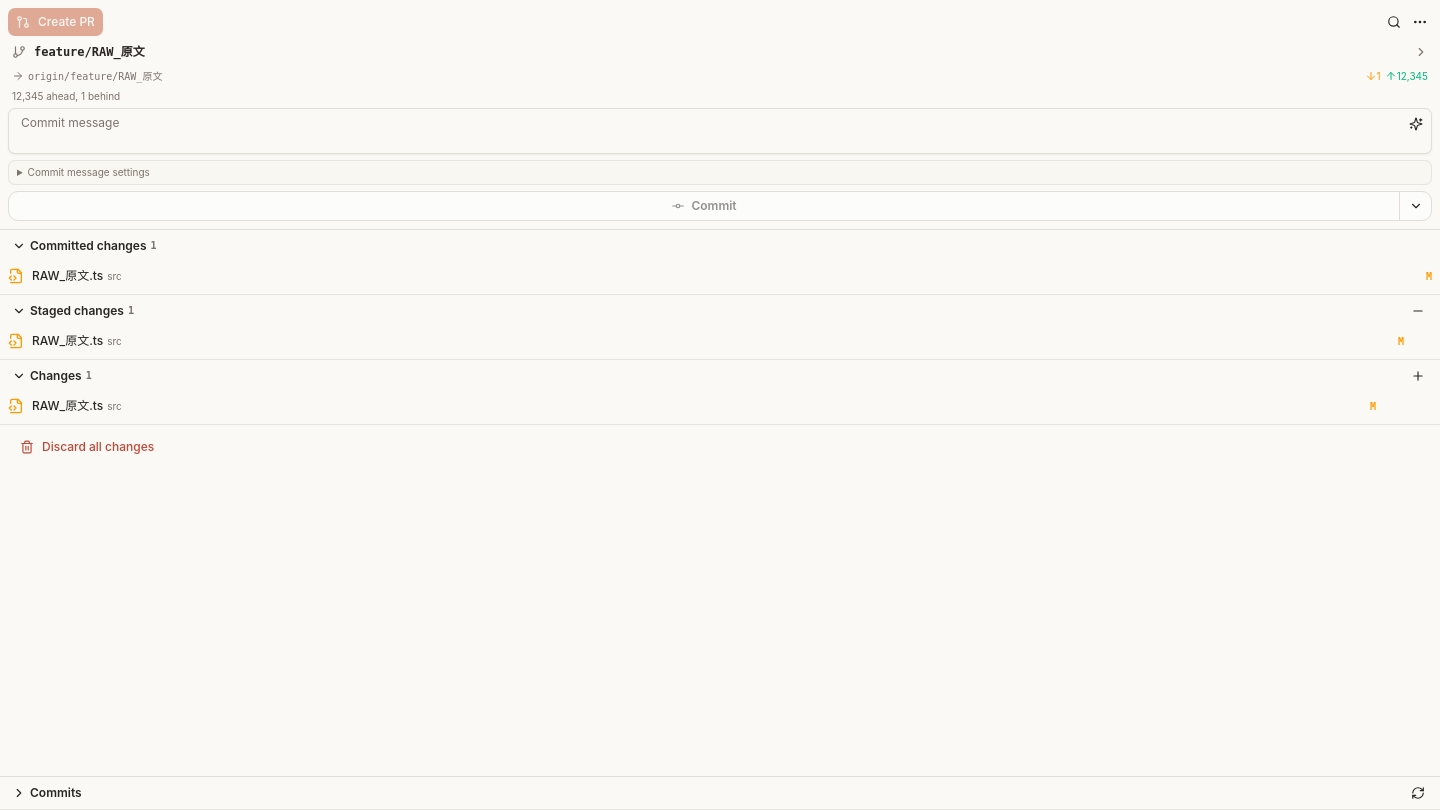
Test case: WorkspaceGitTab i18n › sends the selected provider and model to the generator
Click the heading "Commit message settings": (89, 172) [28, 166, 150, 178]
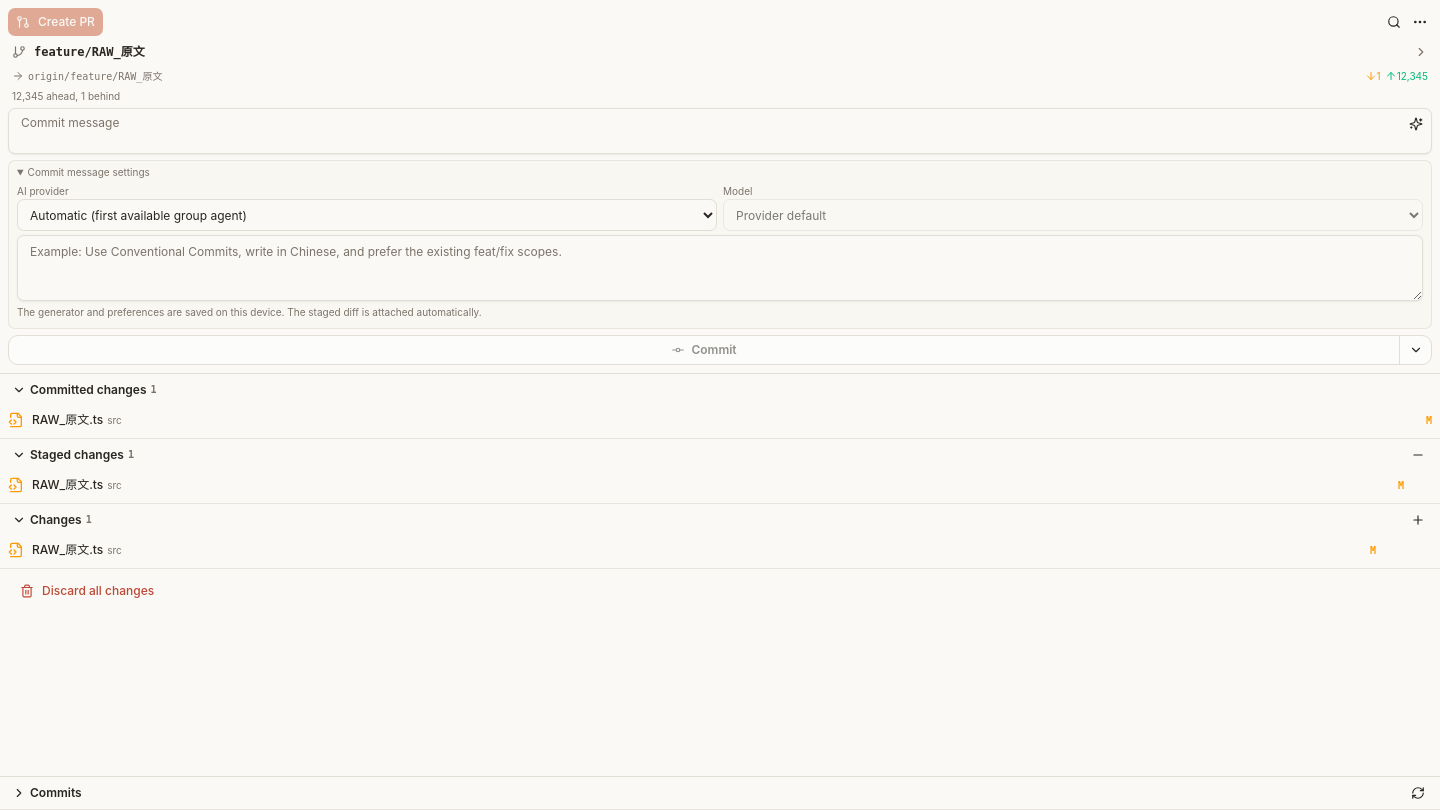
Select "Selected AI" in the dropdown labelled "AI provider": (367, 215) [17, 199, 717, 231]
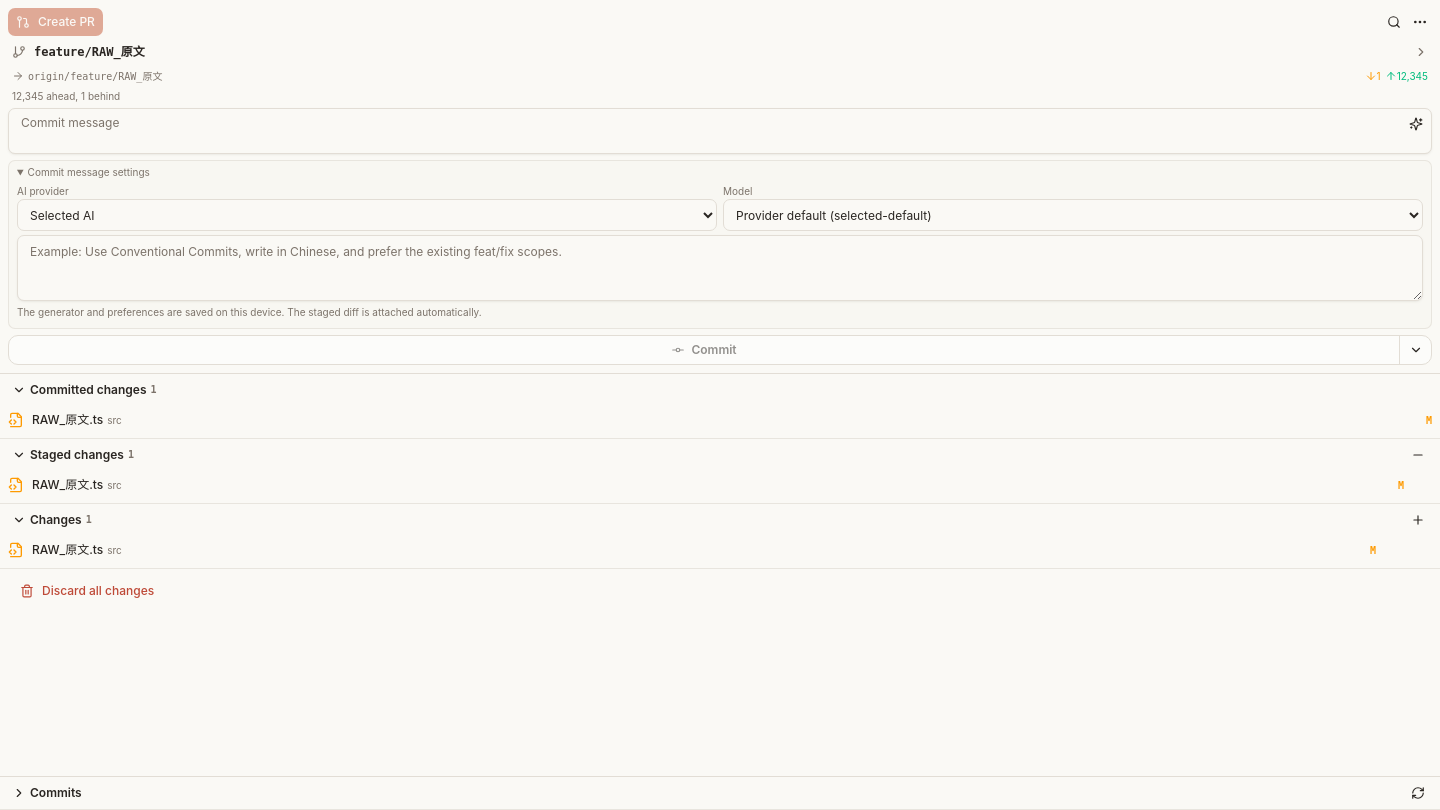
Select "selected-model" in the dropdown labelled "Model": (1073, 215) [723, 199, 1423, 231]
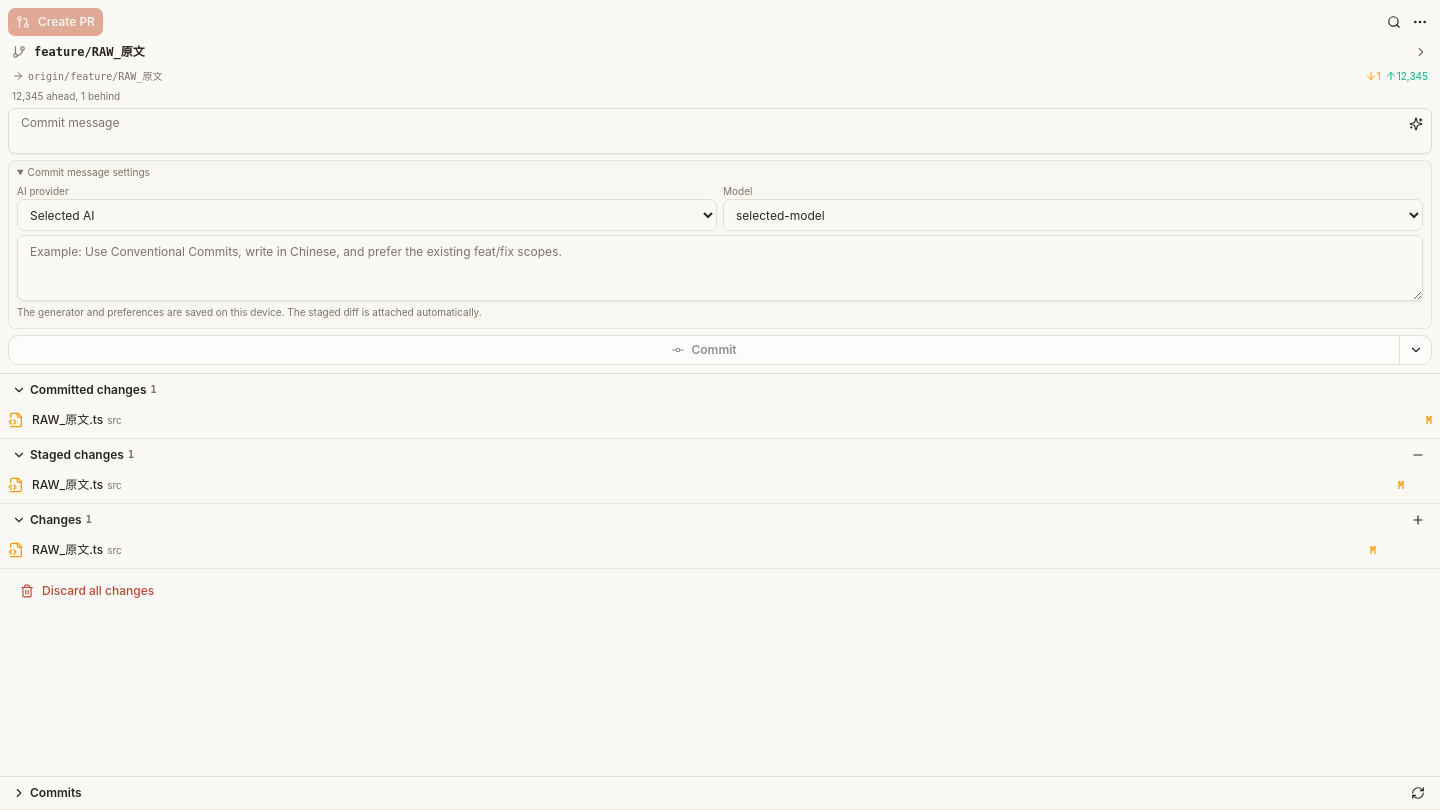
Click the button named "Generate commit message": (1416, 124) [1404, 112, 1428, 136]
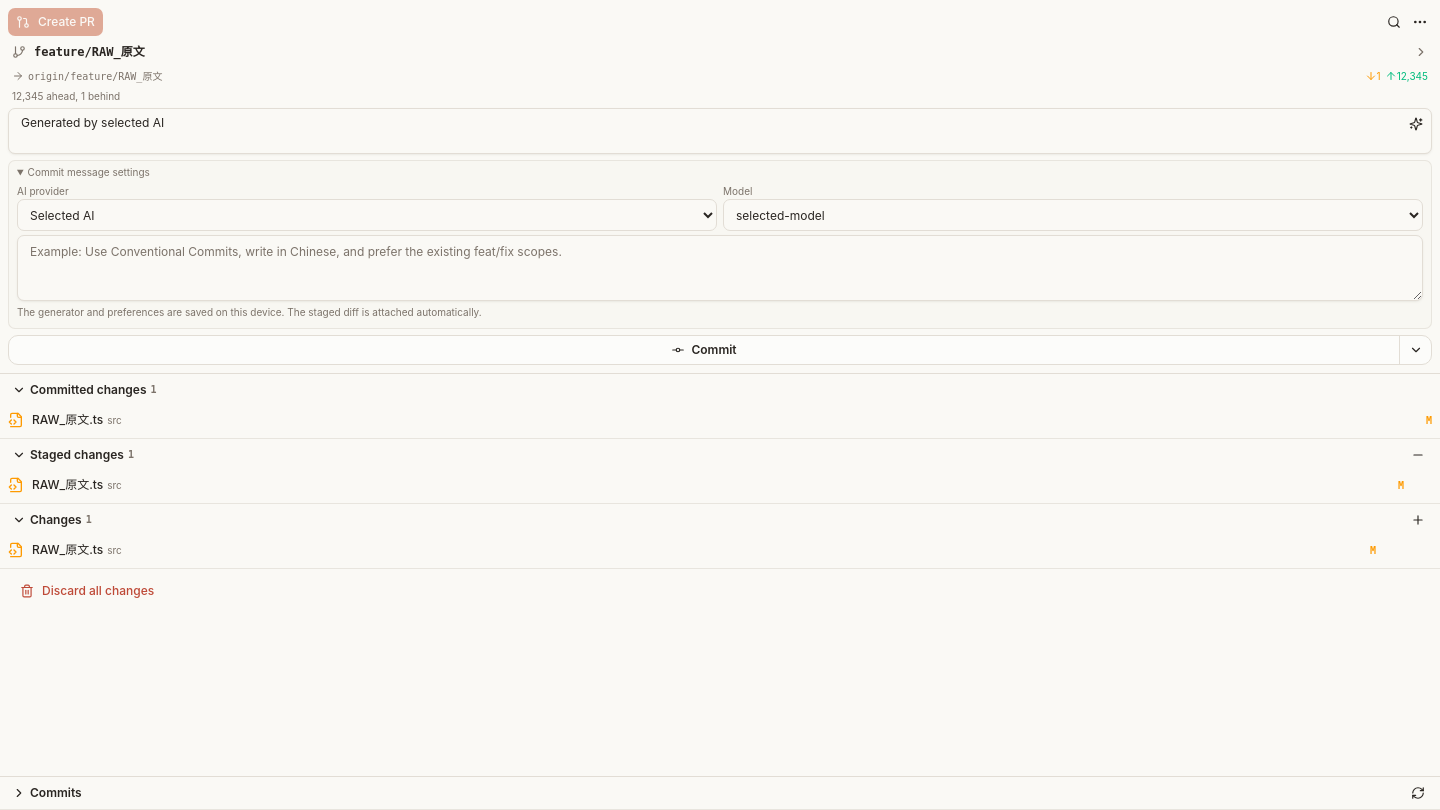
Check: the text box showing "Generated by selected AI" is shown, box [8, 108, 1432, 154]
